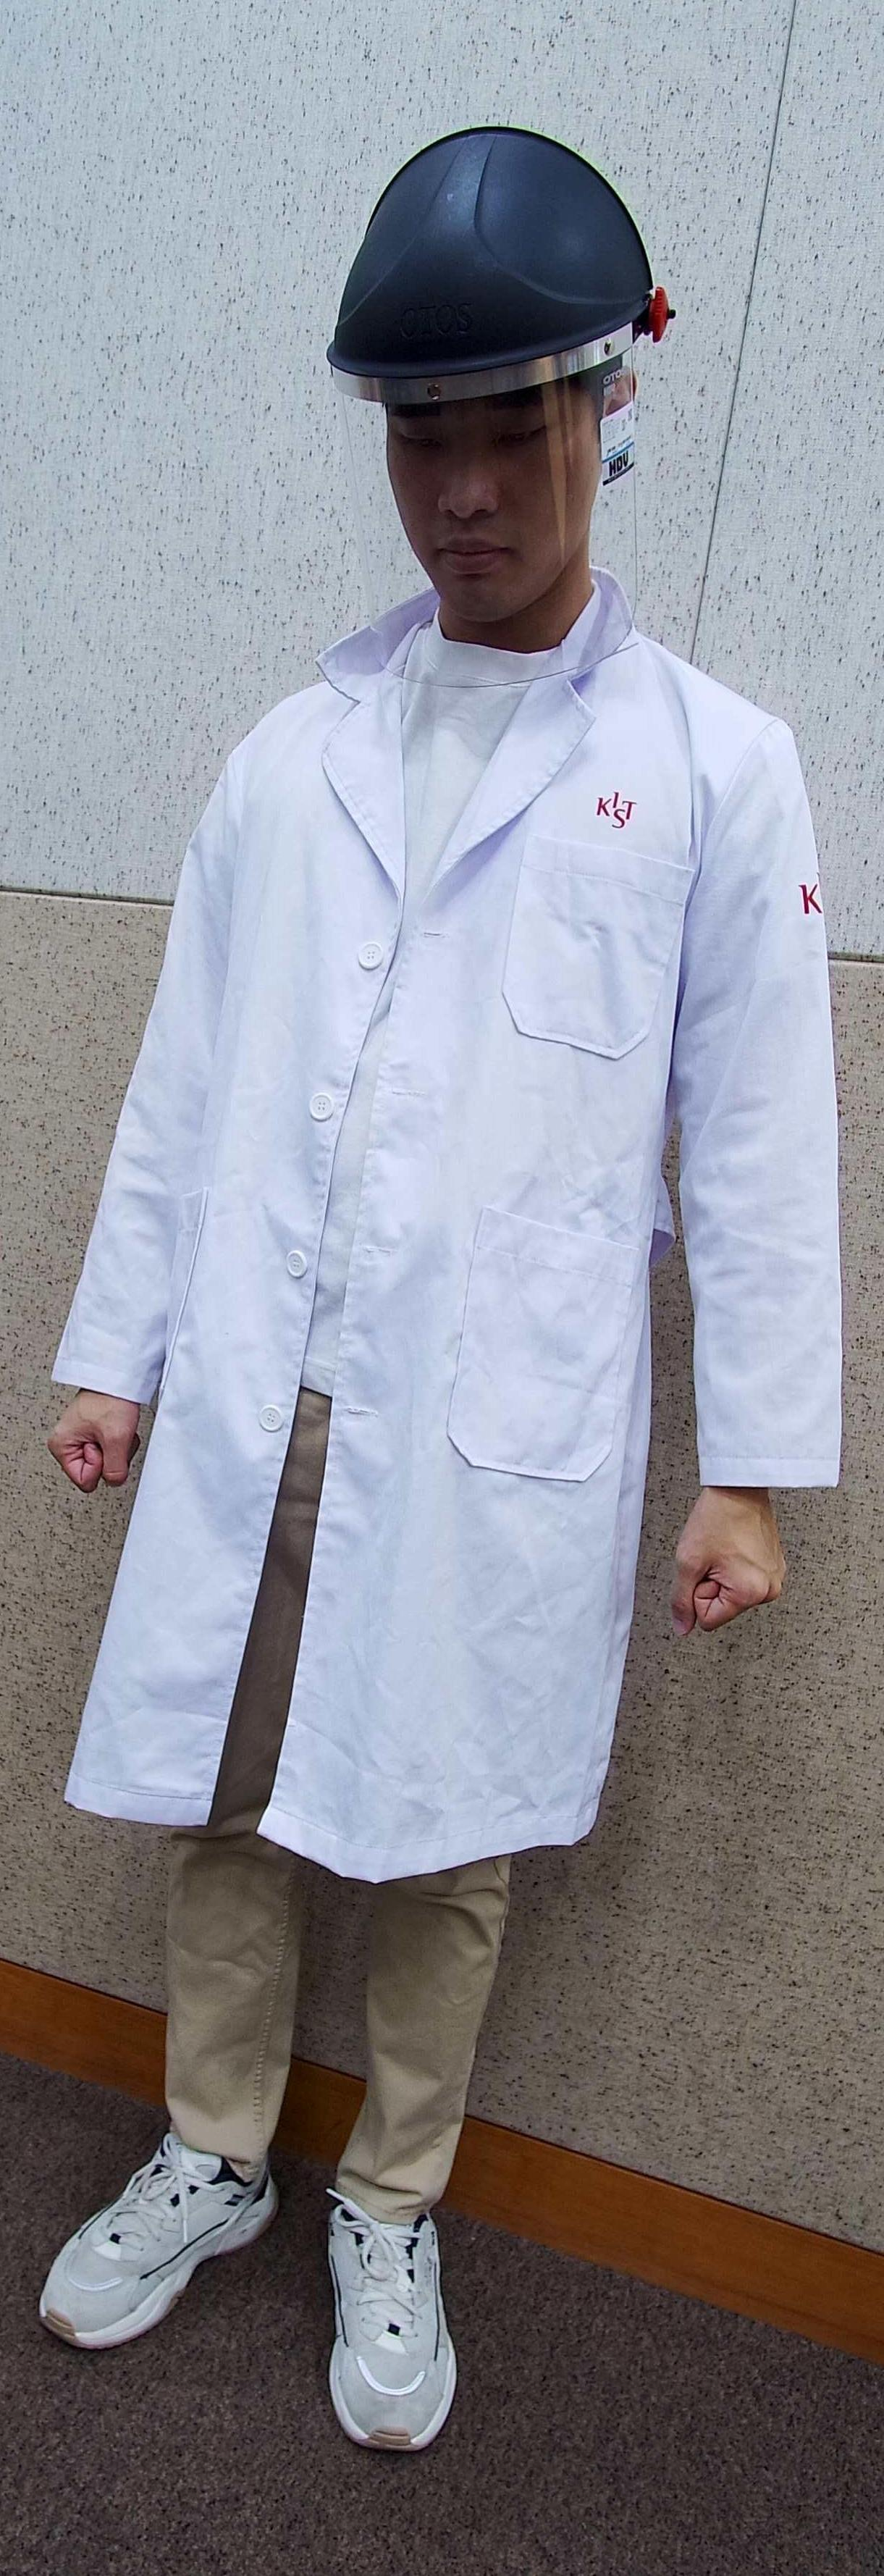lab_coat: (127, 697, 697, 1833)
